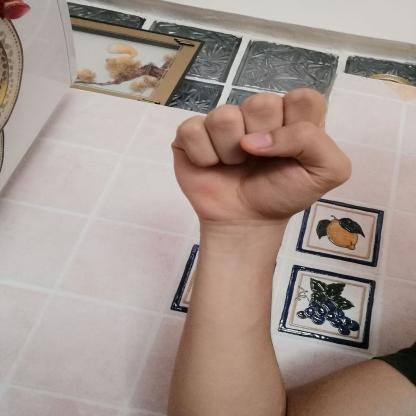SAD: (152, 72, 374, 242)
